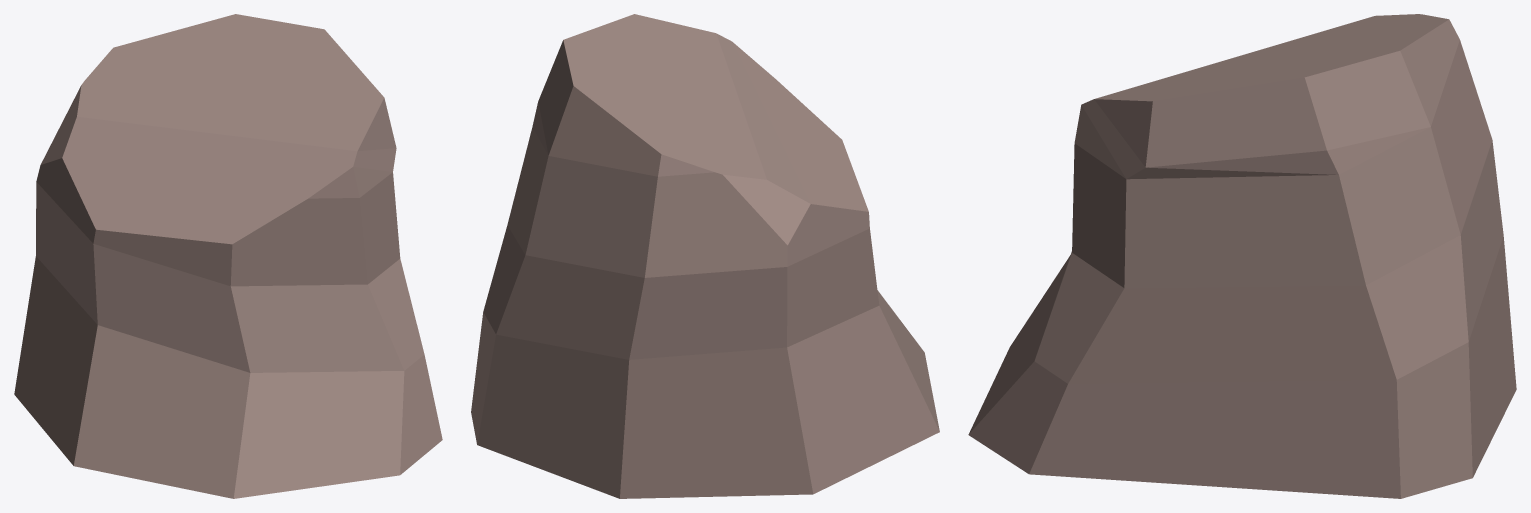
The model's file is Rock_22.fbx.
The picture shows the model from 3 angles, left to right: view 1: azimuth 30°, elevation 25°; view 2: azimuth 150°, elevation 25°; view 3: azimuth 270°, elevation 25°; orthographic projection. The views are drawn at different scales.
Visible parts, largest first — view 1: Rock_22; view 2: Rock_22; view 3: Rock_22.
Part boxes in pixels (x1,y1,x2,y2): Rock_22: [14, 14, 442, 498]; Rock_22: [471, 14, 939, 498]; Rock_22: [968, 14, 1516, 498].
Bounding box in the file's own units: 3.8 × 3.44 × 4.33.
